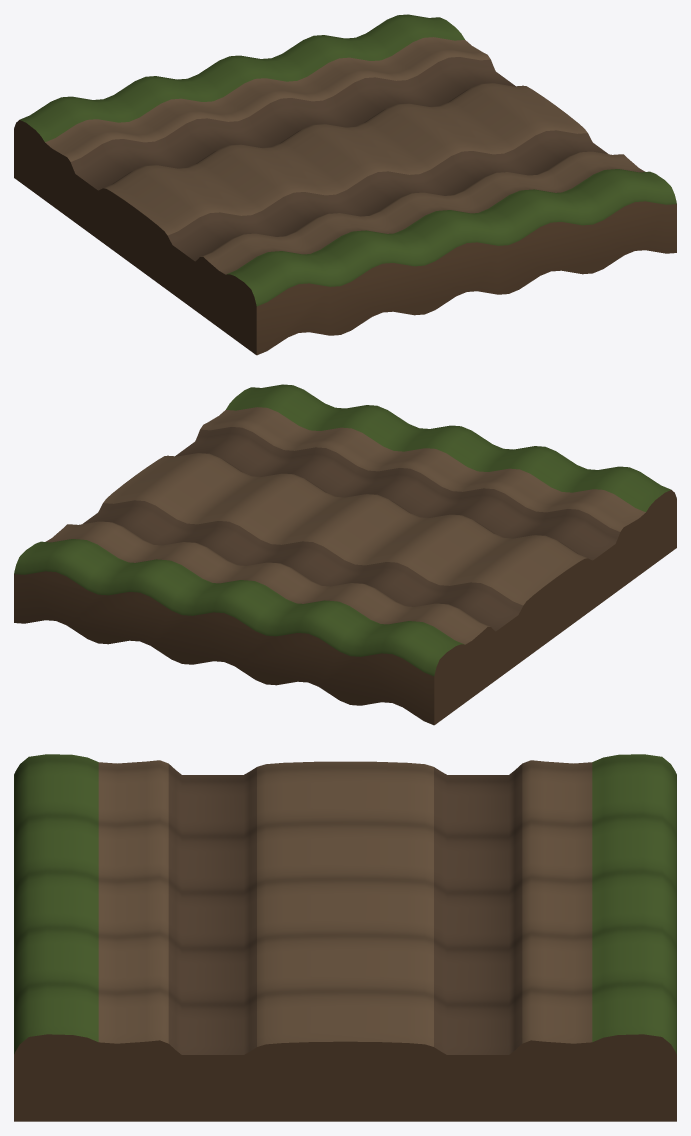
The picture shows the model from 3 angles, top to bottom: view 1: azimuth 30°, elevation 25°; view 2: azimuth 150°, elevation 25°; view 3: azimuth 270°, elevation 25°; orthographic projection. The views are drawn at different scales.
Visible parts, largest first — view 1: w1o; view 2: w1o; view 3: w1o.
Part boxes in pixels (x1,y1,x2,y2): w1o: (14, 14, 676, 355); w1o: (14, 384, 676, 725); w1o: (14, 754, 676, 1121).
Size of the model in its own units: 9 by 1.56 by 9.
